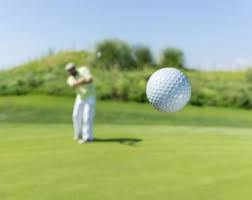golfball: (144, 64, 196, 114)
